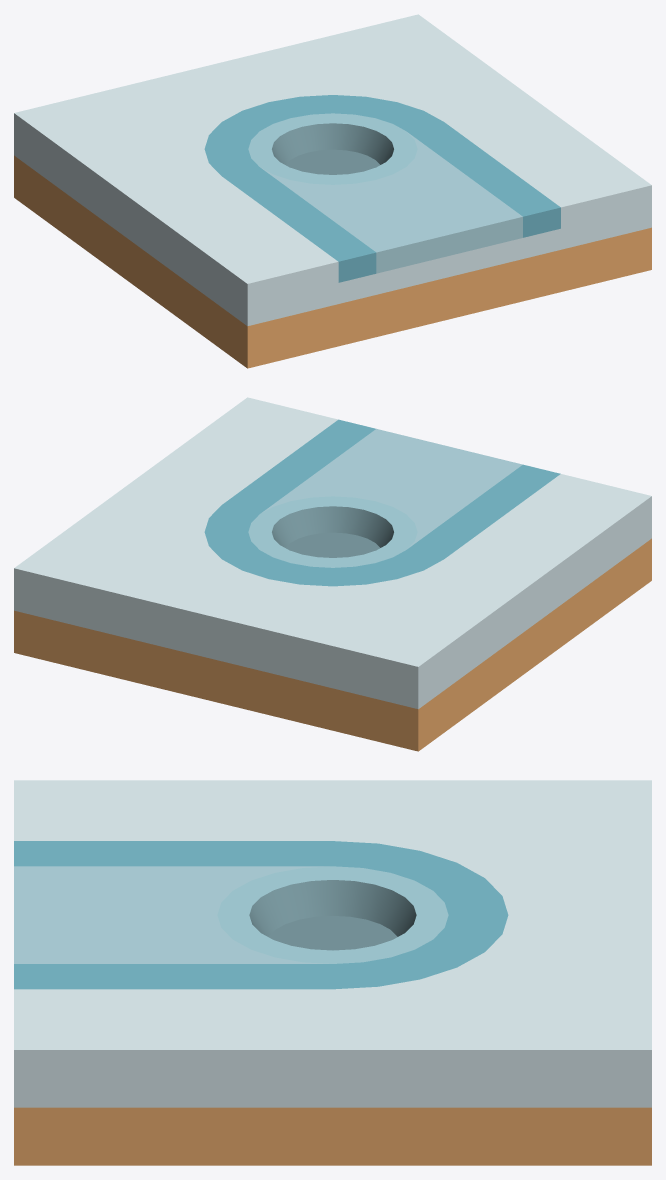
The model's file is snow_tile_endRoundSpawn(+).fbx.
The picture shows the model from 3 angles, top to bottom: view 1: azimuth 30°, elevation 25°; view 2: azimuth 150°, elevation 25°; view 3: azimuth 270°, elevation 25°; orthographic projection. The views are drawn at different scales.
Visible parts, largest first — view 1: Mesh_5; view 2: Mesh_5; view 3: Mesh_5.
Part boxes in pixels (x1,y1,x2,y2): Mesh_5: (14, 14, 651, 368); Mesh_5: (14, 397, 651, 751); Mesh_5: (14, 780, 651, 1165).
Bounding box in the file's own units: 100 × 20 × 100.
